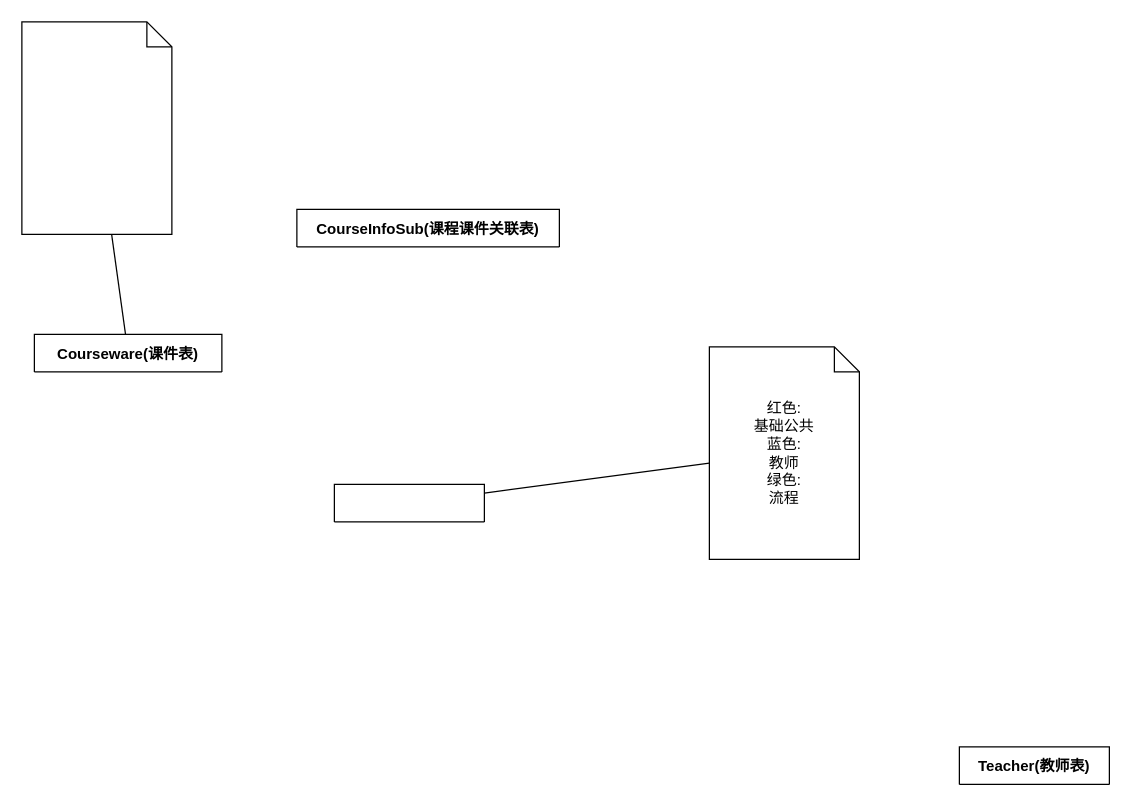
The diagram is 1131 pixels wide and 806 high, and some of its shapes have lost their labels. The shapes that lost their labels are listed below. From the top down, each one's centre as x and y in pixels, then its label:
At (96,127): "红色: 基础公共 橙色: 视频音频类型 绿色: 文稿类型 + 橙色类型 紫色: 链接类型".
At (408,502): "Course(课程表)".
